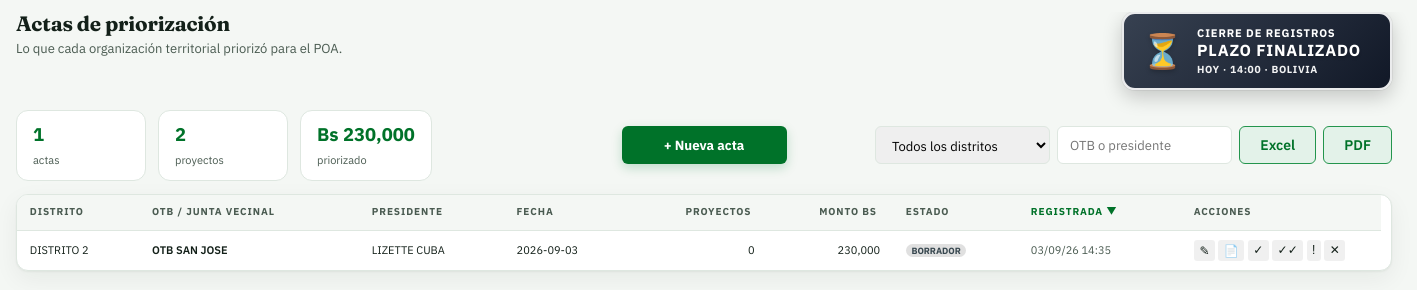
Scenario: ActasListadoComponent · orden del listado › ordena por la columna del encabezado que se clickea
Click the column heading with class "ordenable" showing "OTB / Junta vecinal".
click(249, 213)  # box [139,195,359,231]
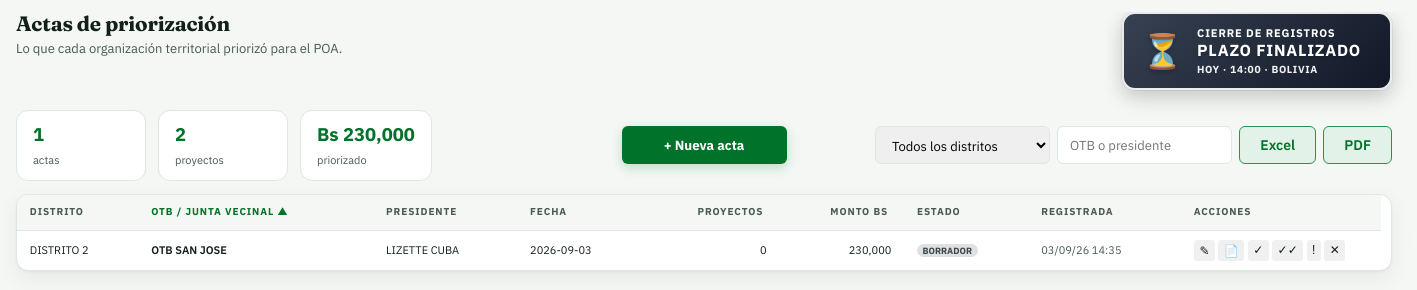
Now the column heading with class "ordenable" shows "▲", box [277,206,289,218]
Now the text with class "ordenable" no longer shows "▼"
